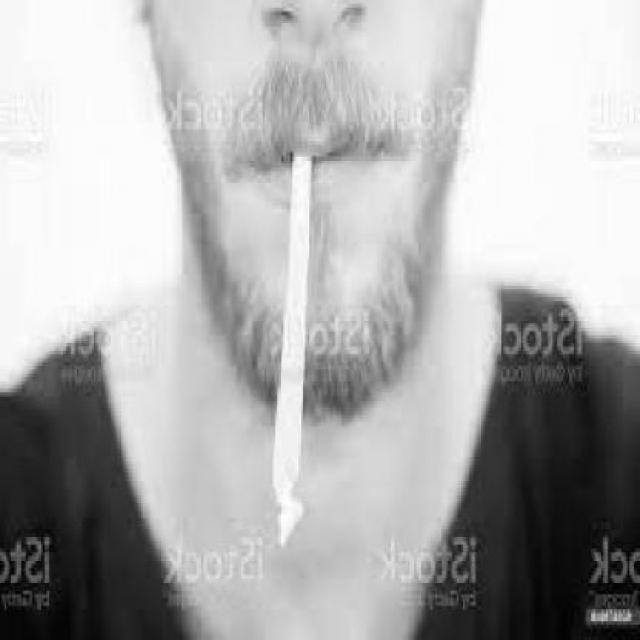cigarette: (271, 142, 318, 549)
